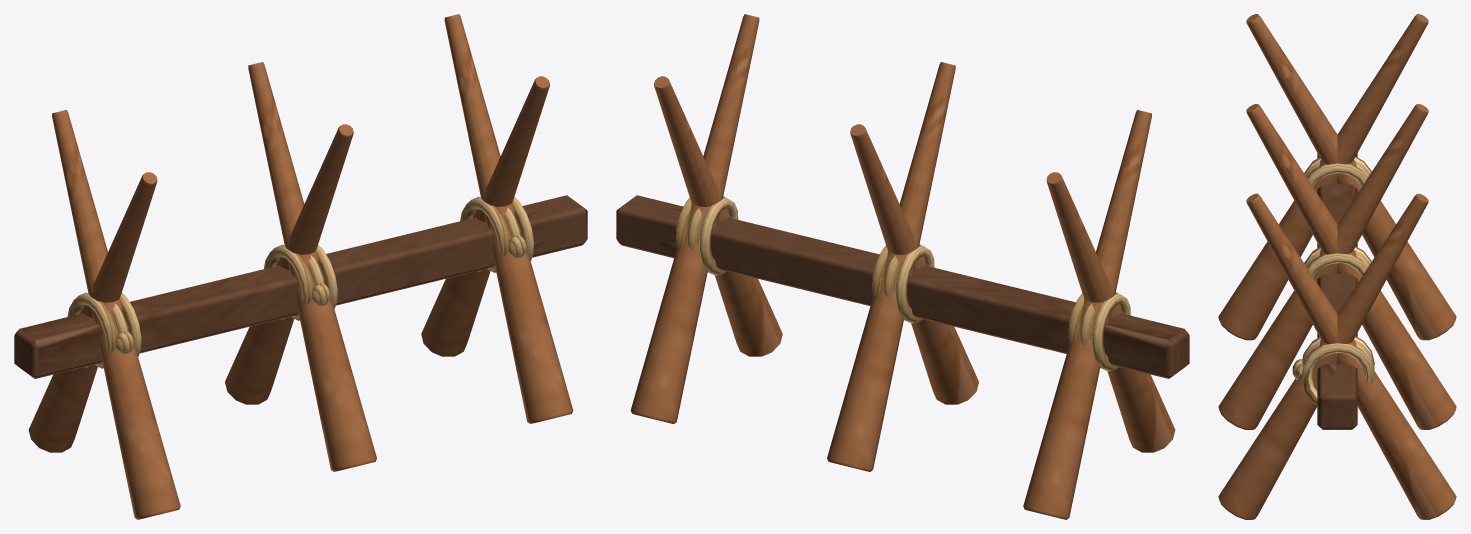
Rendered from SM_Barricade.glb.
3 renders of one model, left to right at view 1: azimuth 30°, elevation 25°; view 2: azimuth 150°, elevation 25°; view 3: azimuth 270°, elevation 25°, orthographic. The views are drawn at different scales.
Visible parts, largest first — view 1: SM_Barricade; view 2: SM_Barricade; view 3: SM_Barricade.
Boxes of the visible parts, box(x1,y1,x2,y2) form: SM_Barricade: box(14, 14, 587, 519); SM_Barricade: box(616, 14, 1189, 519); SM_Barricade: box(1218, 14, 1456, 519).
Bounding box in the file's own units: 2.7 × 1.59 × 1.06.
1 material, 1 textured.
